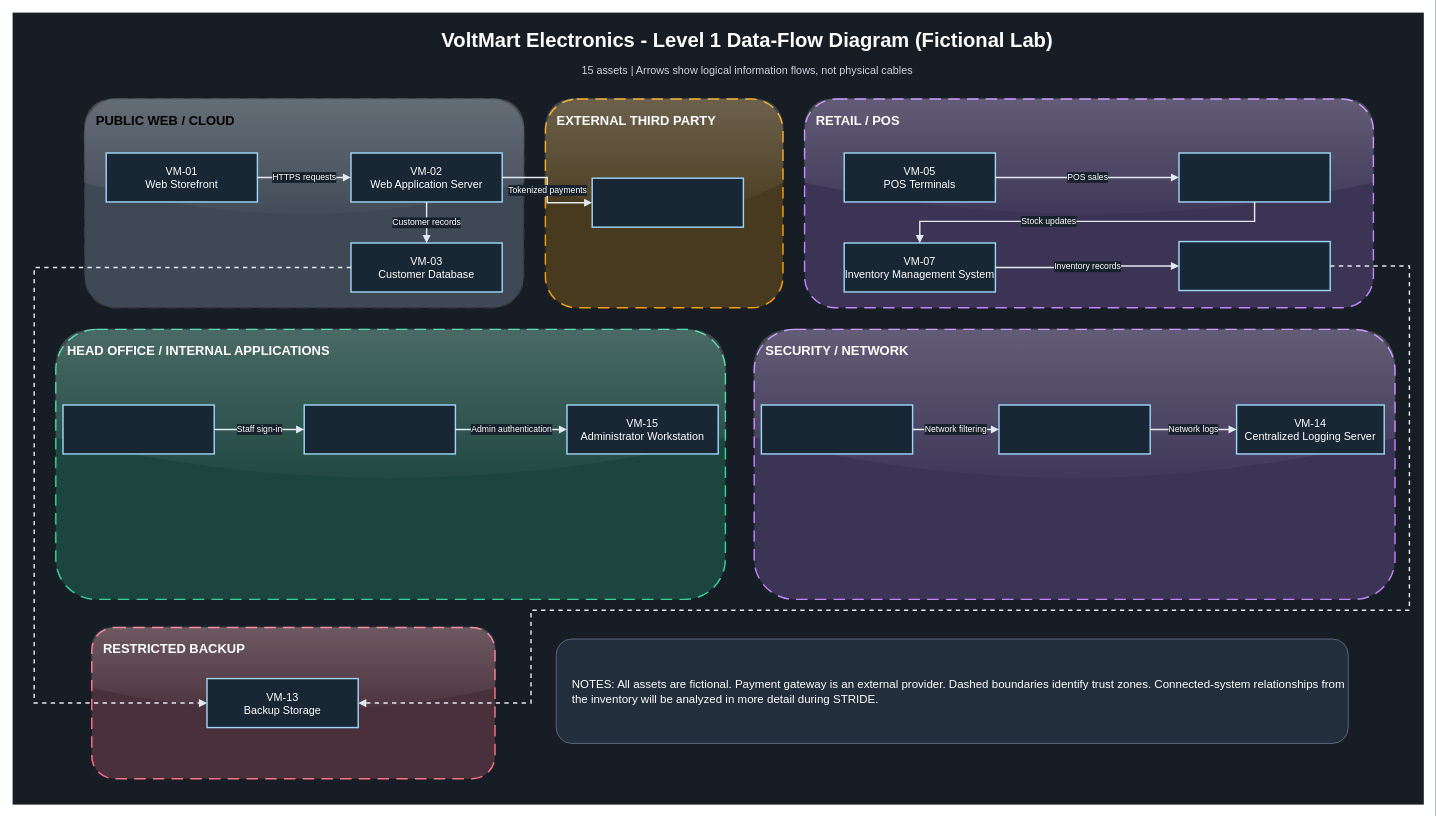
The diagram is 1436 pixels wide and 816 high, and some of its shapes have lost their labels. The centre of each missing label's shape, as x and y in pixels:
VM-04 Payment Gateway (External): point (667, 202)
VM-06 POS Management Server: point (1254, 177)
VM-08 Inventory Database: point (1254, 265)
VM-09 Employee Workstations: point (138, 429)
VM-10 Identity and Access Management: point (379, 429)
VM-11 Network Firewall: point (836, 429)
VM-12 Core Network Switch: point (1074, 429)
